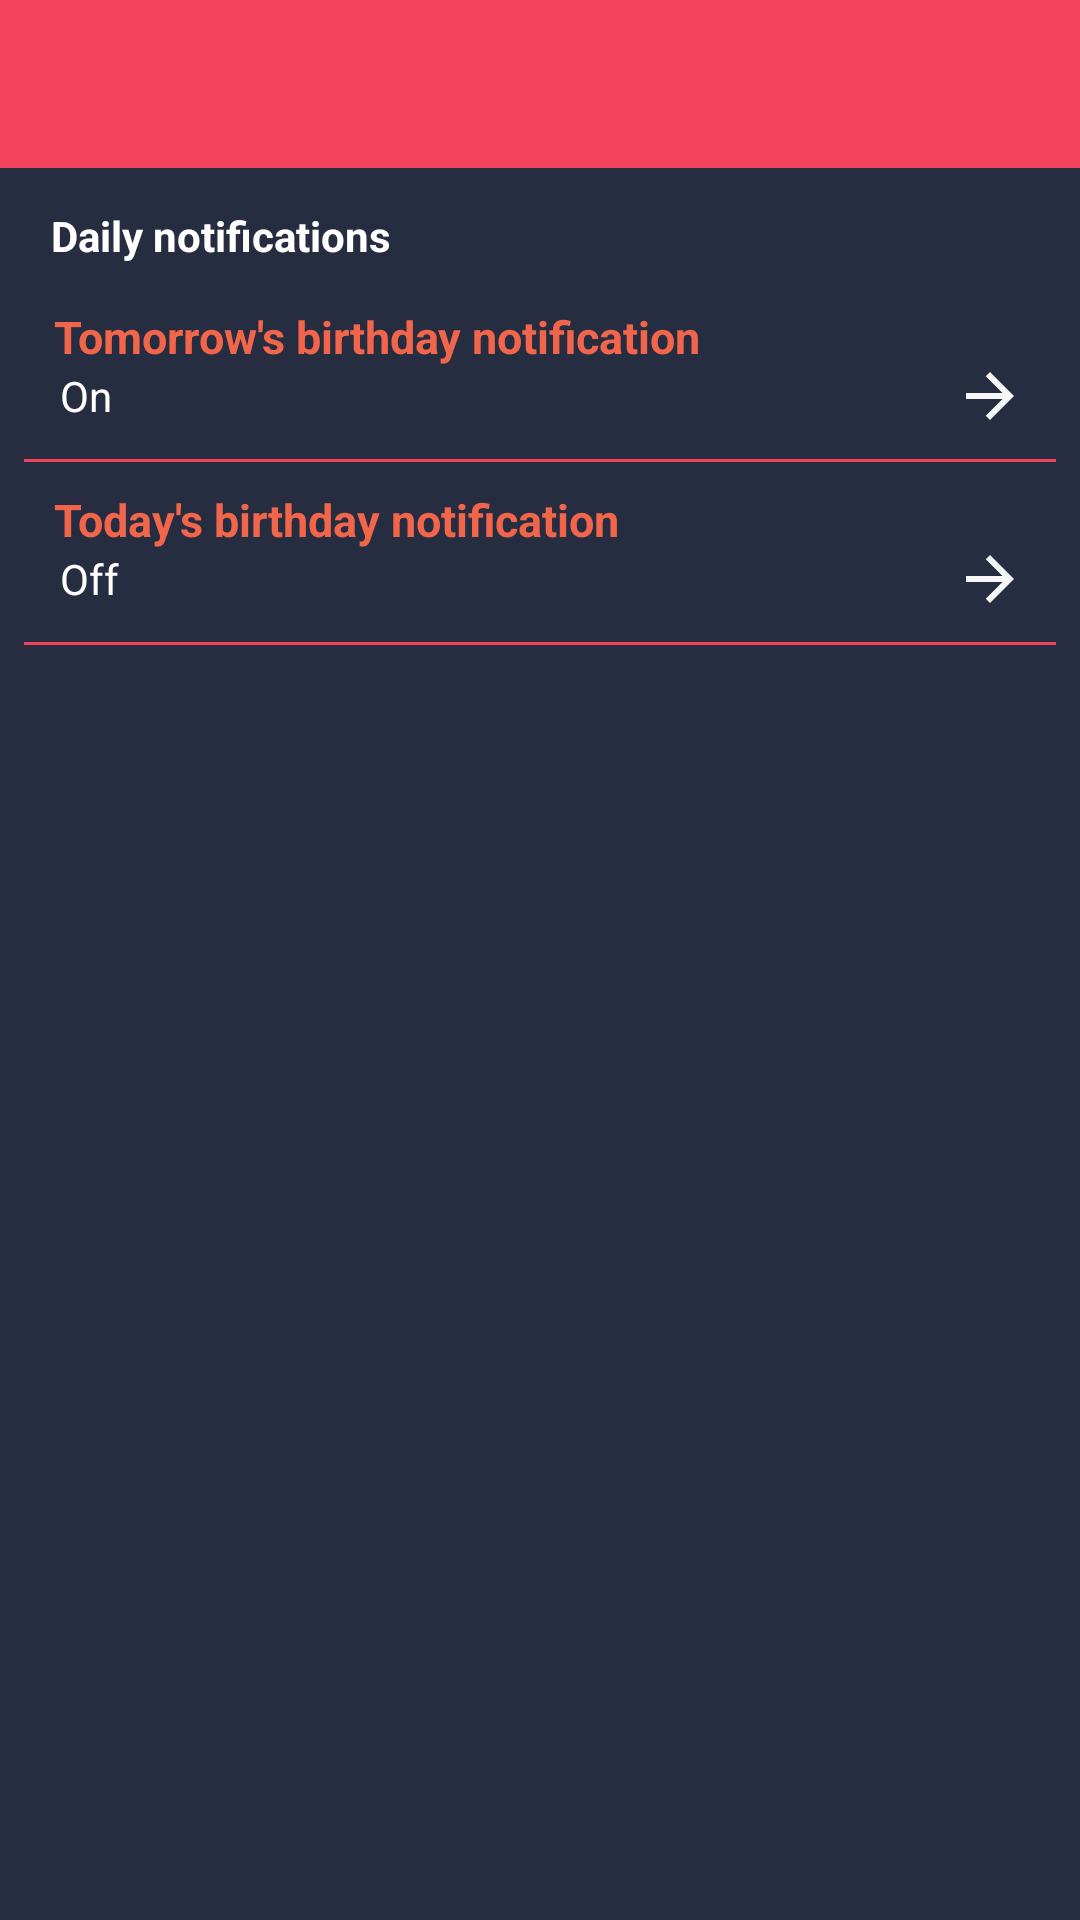

Icons on this 1080*1920 Android screen, each with its box as region(x1, y1, x2, y2):
arrow forward: region(966, 372, 1014, 420), region(966, 555, 1014, 603)
